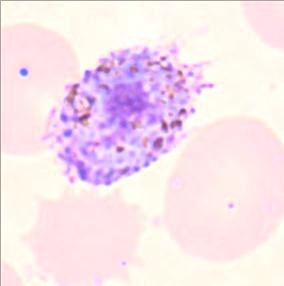Infected: (41, 35, 214, 188)
Uninfected: (163, 112, 284, 260), (17, 189, 145, 286)
